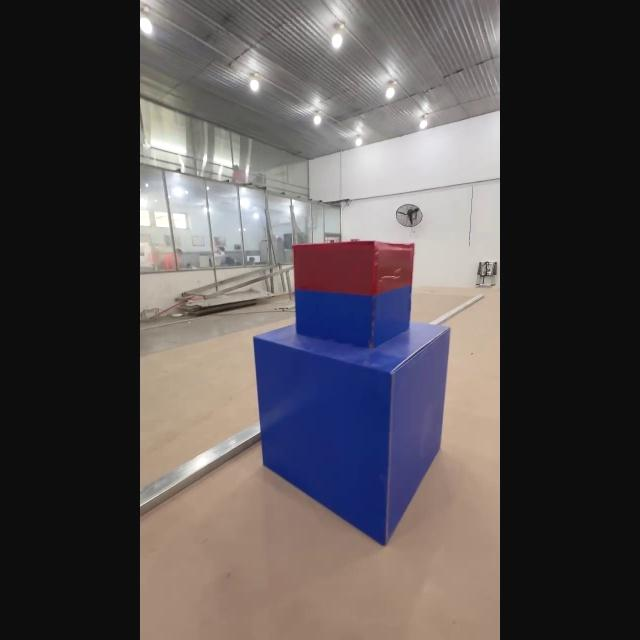earth_block: (250, 322, 466, 546)
sky_block: (290, 237, 414, 349)
